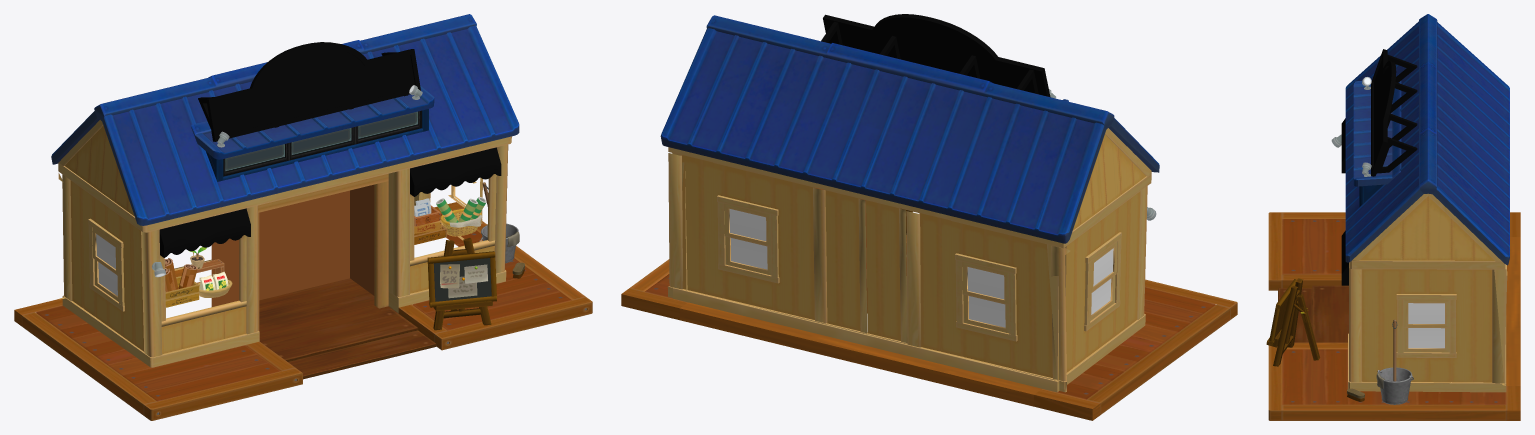
The model's file is shop-market.glb.
3 renders of one model, left to right at view 1: azimuth 30°, elevation 25°; view 2: azimuth 150°, elevation 25°; view 3: azimuth 270°, elevation 25°, orthographic. The views are drawn at different scales.
Parts seen in each view (by area): view 1: Door_Dark__mWall, FtrBucket_pPipe5__mRoofDeck, inside__mSign, Body_toziru7__mItem, shape7__mRoofWindow, polySurface1341__mSideWindow; view 2: FtrBucket_pPipe5__mRoofDeck, Door_Dark__mWall, inside__mSign, polySurface1341__mSideWindow; view 3: FtrBucket_pPipe5__mRoofDeck, Door_Dark__mWall, inside__mSign, polySurface1341__mSideWindow.
Part boxes in pixels (x1=…): Door_Dark__mWall: x1=58, y1=86, x2=511, y2=379; FtrBucket_pPipe5__mRoofDeck: x1=14, y1=14, x2=592, y2=420; inside__mSign: x1=159, y1=42, x2=501, y2=257; Body_toziru7__mItem: x1=164, y1=85, x2=486, y2=307; shape7__mRoofWindow: x1=225, y1=111, x2=418, y2=171; polySurface1341__mSideWindow: x1=96, y1=234, x2=117, y2=295; FtrBucket_pPipe5__mRoofDeck: x1=621, y1=15, x2=1237, y2=420; Door_Dark__mWall: x1=667, y1=99, x2=1151, y2=392; inside__mSign: x1=821, y1=14, x2=1050, y2=97; polySurface1341__mSideWindow: x1=729, y1=209, x2=1113, y2=327; FtrBucket_pPipe5__mRoofDeck: x1=1266, y1=14, x2=1520, y2=420; Door_Dark__mWall: x1=1278, y1=73, x2=1507, y2=392; inside__mSign: x1=1341, y1=49, x2=1417, y2=285; polySurface1341__mSideWindow: x1=1408, y1=303, x2=1444, y2=348.
Size of the model in its own units: 66.52 by 39.29 by 36.01.
Materials: 7 (5 with a texture image).
